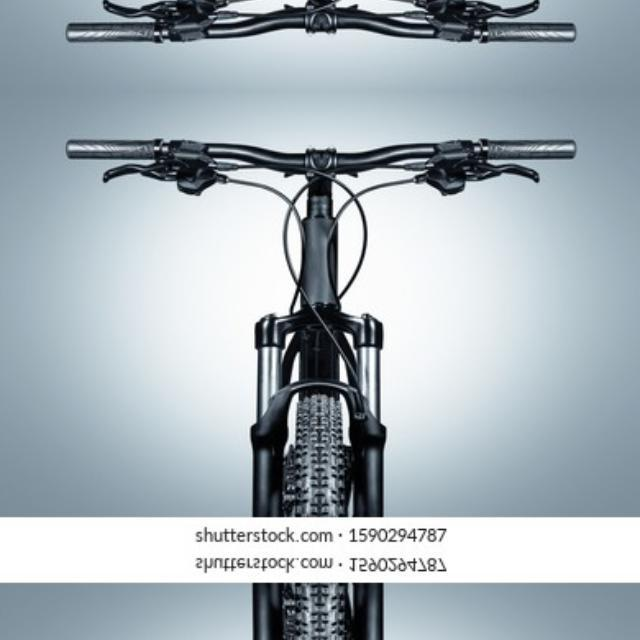obstacle: (52, 130, 592, 522), (52, 576, 592, 640), (52, 0, 592, 50)
